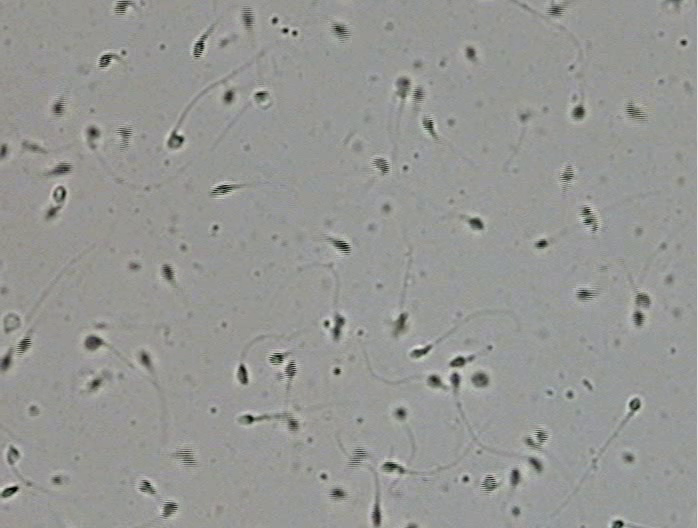S: (579, 205, 599, 233), (116, 125, 132, 149), (625, 104, 647, 121), (161, 499, 179, 519), (178, 449, 197, 467), (331, 23, 350, 41), (349, 448, 366, 468), (16, 336, 32, 357), (331, 315, 345, 339), (393, 313, 407, 337), (372, 157, 390, 175), (481, 474, 498, 493), (241, 5, 255, 28), (396, 76, 410, 99), (331, 240, 351, 256), (559, 164, 574, 184), (167, 132, 184, 149), (6, 445, 20, 465), (211, 184, 234, 196), (635, 292, 651, 309), (52, 186, 67, 204), (237, 364, 249, 386), (52, 162, 72, 175), (472, 372, 489, 387), (421, 116, 435, 134), (411, 87, 425, 105), (284, 360, 297, 379), (371, 505, 382, 527), (534, 427, 549, 443), (575, 288, 595, 300), (632, 310, 646, 327), (193, 39, 205, 58), (528, 456, 543, 471), (161, 264, 174, 281), (268, 352, 285, 365), (328, 487, 345, 500), (468, 217, 485, 230), (410, 347, 430, 358), (1, 486, 19, 498), (509, 468, 521, 486), (546, 4, 564, 16), (114, 1, 129, 15), (98, 54, 113, 68), (85, 336, 100, 350), (570, 106, 585, 120), (52, 101, 65, 117), (87, 378, 101, 392), (450, 356, 466, 368), (534, 238, 549, 250), (381, 462, 398, 472), (87, 126, 100, 139), (287, 417, 299, 431), (427, 375, 441, 387), (450, 373, 461, 388), (1, 354, 10, 372), (238, 414, 254, 424), (138, 480, 151, 492), (629, 398, 641, 411), (524, 436, 536, 449), (254, 91, 268, 102), (465, 46, 476, 60), (46, 207, 58, 219), (224, 90, 234, 104), (139, 353, 150, 365), (395, 408, 406, 419), (1, 144, 8, 159), (612, 520, 624, 528), (405, 523, 417, 528)
